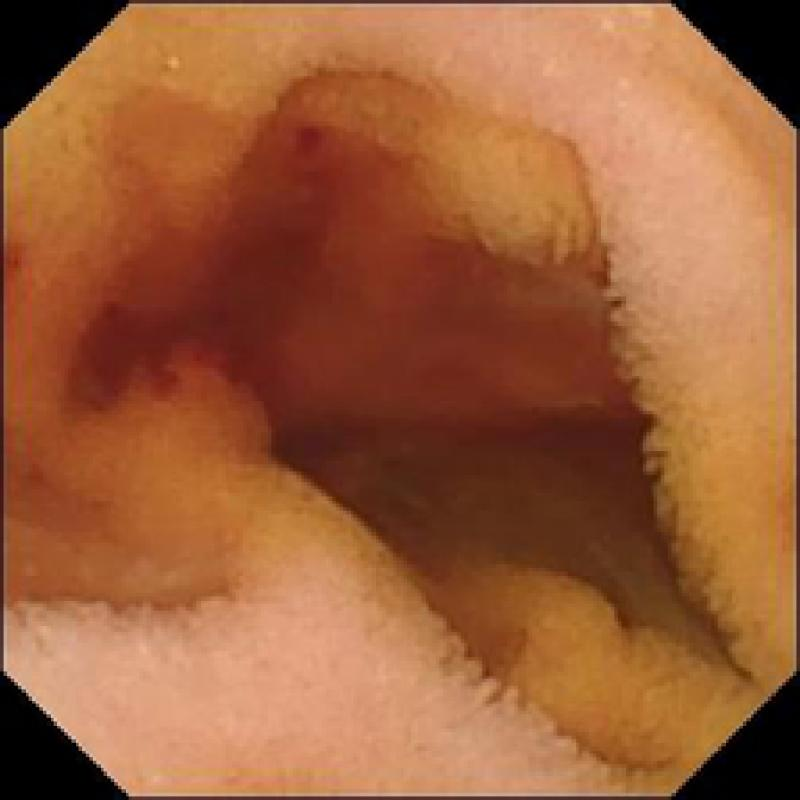bleeding: (36, 104, 418, 400)
